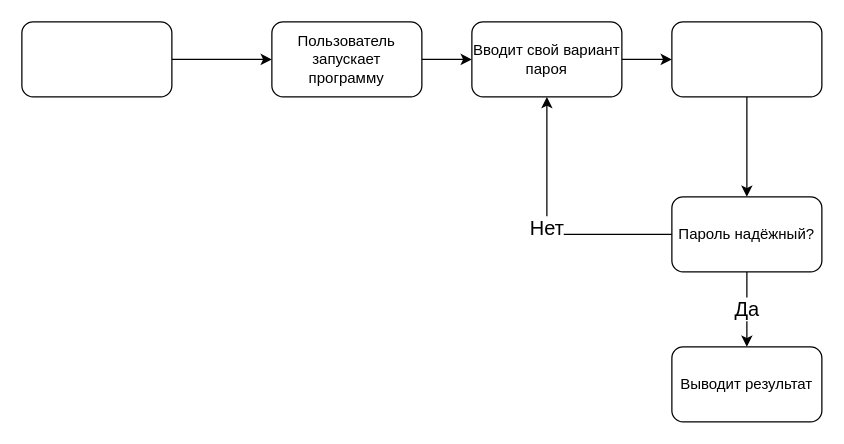
Some shapes in this 844 by 444 pixel diagram are drawn without their labels. The shapes that lost their labels are listed below. From the top down, each one's box as (x1, y1, x2, y2) in pixels, then its label:
(21, 21, 172, 97): Начало работы
(671, 21, 822, 97): Программа проверяет надёжность пароля
